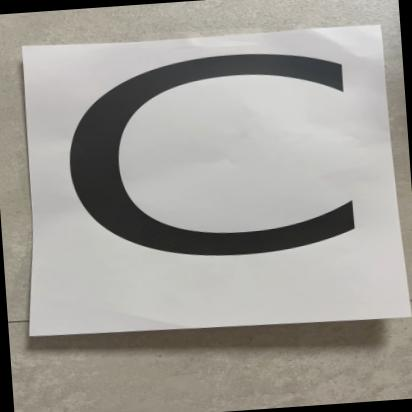seat: (16, 19, 412, 342)
